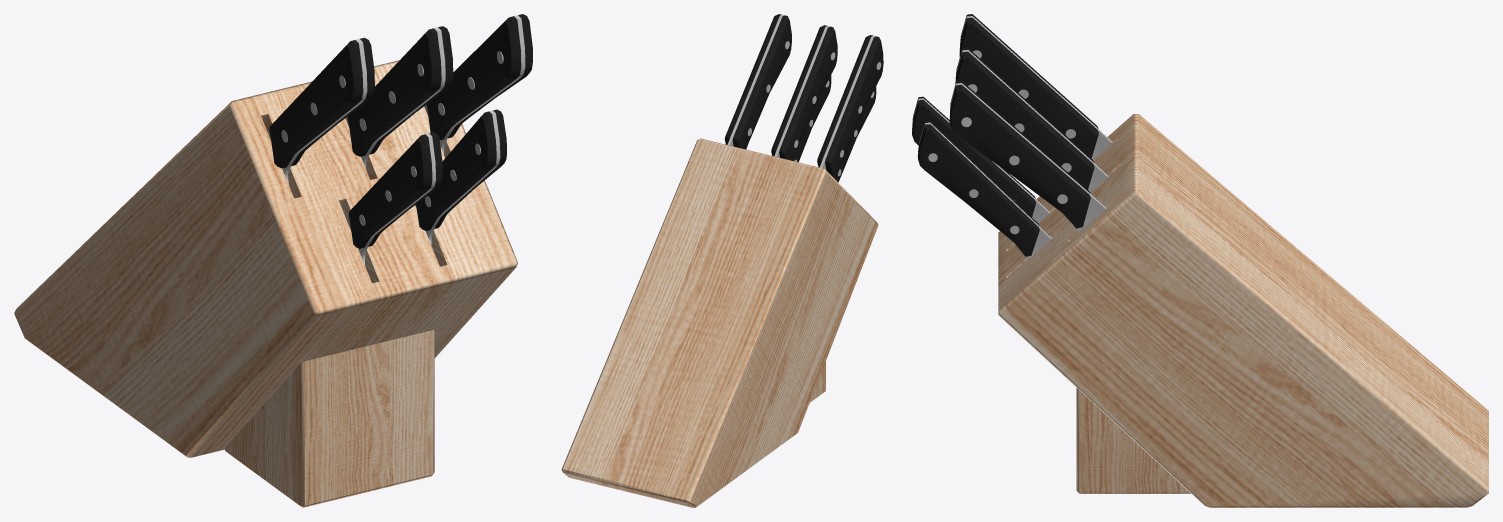
File: knife_stand.glb
3 renders of one model, left to right at view 1: azimuth 30°, elevation 25°; view 2: azimuth 150°, elevation 25°; view 3: azimuth 270°, elevation 25°, orthographic. The views are drawn at different scales.
Visible parts, largest first — view 1: Object_12, Object_2, Object_4, Object_6, Object_3, Object_5, Object_7, Object_9, Object_11, Object_8, Object_10; view 2: Object_12, Object_2, Object_4, Object_6, Object_7, Object_11, Object_9, Object_5, Object_3; view 3: Object_12, Object_6, Object_5, Object_2, Object_4, Object_3, Object_11, Object_7, Object_9, Object_10.
Boxes of the visible parts, x1=… form: Object_12: x1=14, y1=60, x2=517, y2=507; Object_2: x1=269, y1=37, x2=374, y2=168; Object_4: x1=347, y1=26, x2=453, y2=156; Object_6: x1=426, y1=14, x2=532, y2=140; Object_3: x1=348, y1=132, x2=442, y2=248; Object_5: x1=416, y1=109, x2=506, y2=230; Object_7: x1=268, y1=39, x2=367, y2=184; Object_9: x1=347, y1=27, x2=445, y2=168; Object_11: x1=424, y1=15, x2=525, y2=154; Object_8: x1=346, y1=133, x2=436, y2=264; Object_10: x1=415, y1=110, x2=500, y2=244; Object_12: x1=561, y1=138, x2=878, y2=507; Object_2: x1=817, y1=35, x2=883, y2=179; Object_4: x1=771, y1=25, x2=837, y2=160; Object_6: x1=724, y1=14, x2=791, y2=149; Object_7: x1=819, y1=35, x2=881, y2=169; Object_11: x1=727, y1=14, x2=789, y2=146; Object_9: x1=774, y1=26, x2=835, y2=157; Object_5: x1=793, y1=75, x2=831, y2=162; Object_3: x1=836, y1=86, x2=876, y2=182; Object_12: x1=998, y1=114, x2=1488, y2=507; Object_6: x1=949, y1=81, x2=1090, y2=228; Object_5: x1=918, y1=121, x2=1039, y2=256; Object_2: x1=959, y1=14, x2=1098, y2=158; Object_4: x1=955, y1=48, x2=1094, y2=189; Object_3: x1=912, y1=96, x2=1035, y2=216; Object_11: x1=949, y1=83, x2=1106, y2=231; Object_7: x1=959, y1=16, x2=1112, y2=159; Object_9: x1=955, y1=50, x2=1108, y2=192; Object_10: x1=917, y1=122, x2=1051, y2=259.
Size of the model in its own units: 9.04 by 21.91 by 27.14.
Materials: 11 (6 with a texture image).
